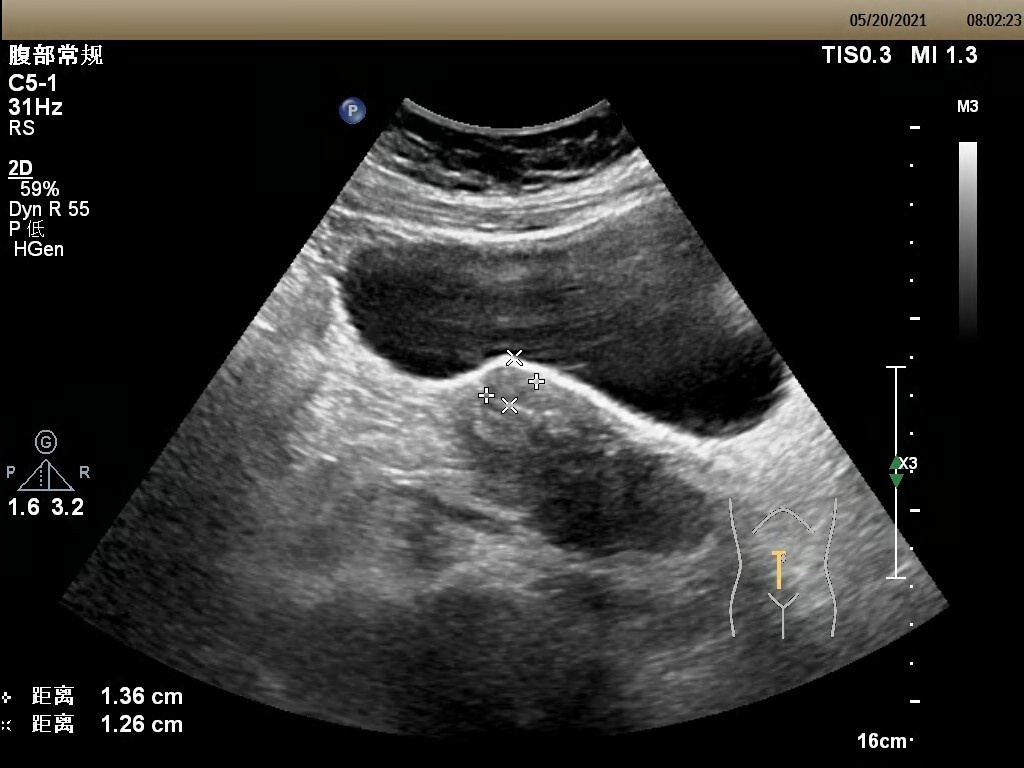肌瘤: (485, 357, 538, 407)
